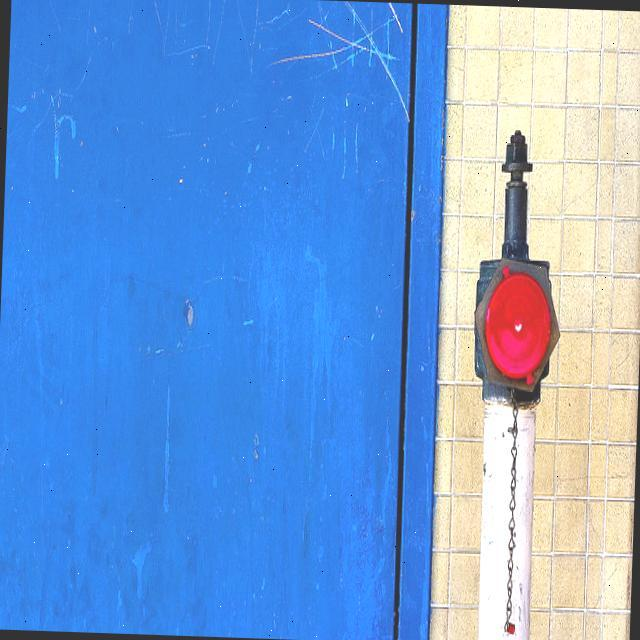fire_hydrant: (465, 127, 569, 640)
